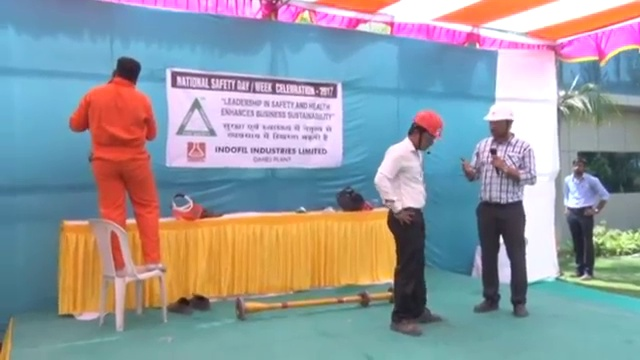helmet: (411, 109, 445, 138), (482, 103, 518, 123)
helmet_off: (115, 56, 143, 86), (570, 155, 586, 178)
helmet_on: (405, 108, 444, 152), (480, 103, 518, 143)
person: (70, 56, 168, 274), (373, 108, 447, 338), (461, 102, 538, 320), (563, 154, 611, 283)
